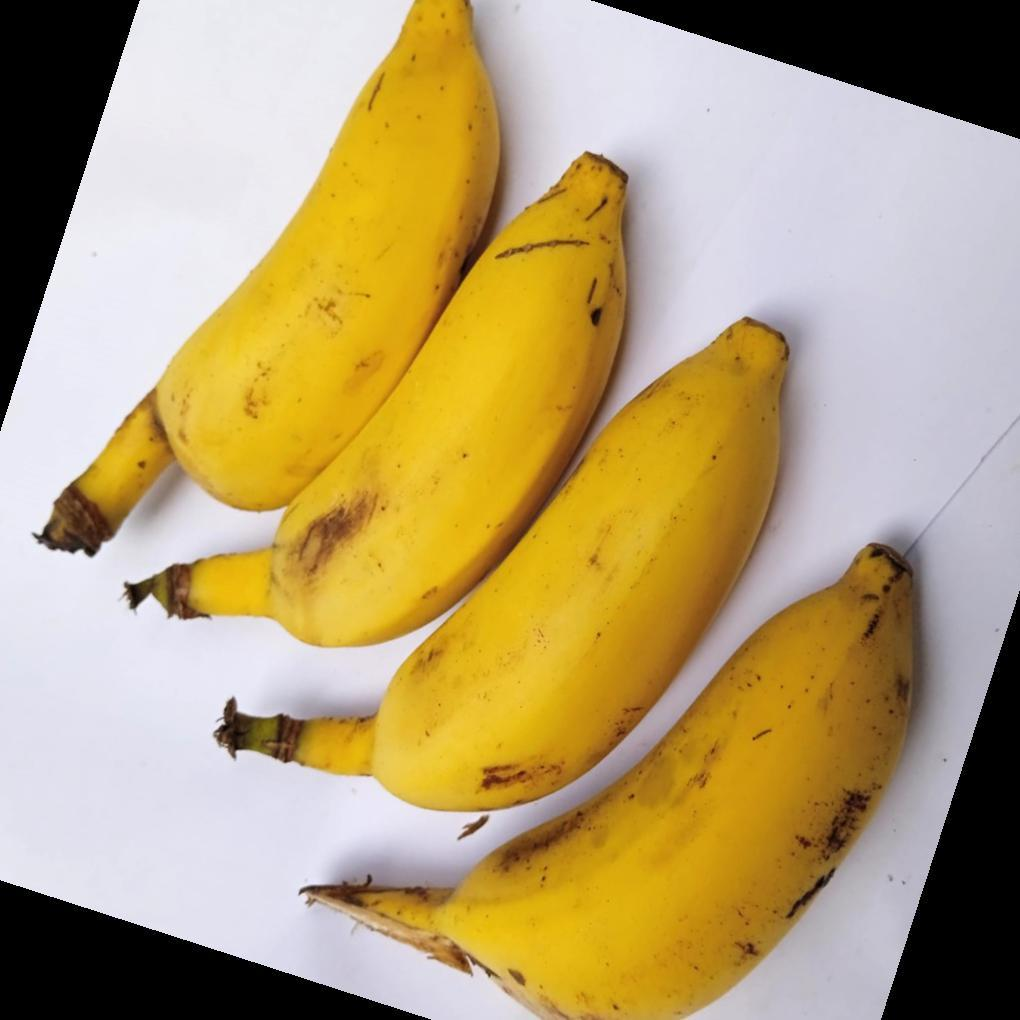Banana Ripe: (59, 8, 1020, 1020), (321, 478, 971, 1020), (308, 290, 790, 861), (205, 117, 626, 681), (82, 0, 505, 550)
